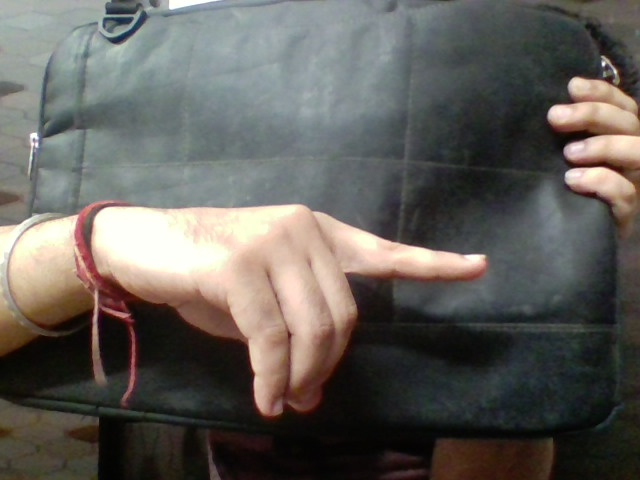p: (136, 168, 500, 421)
